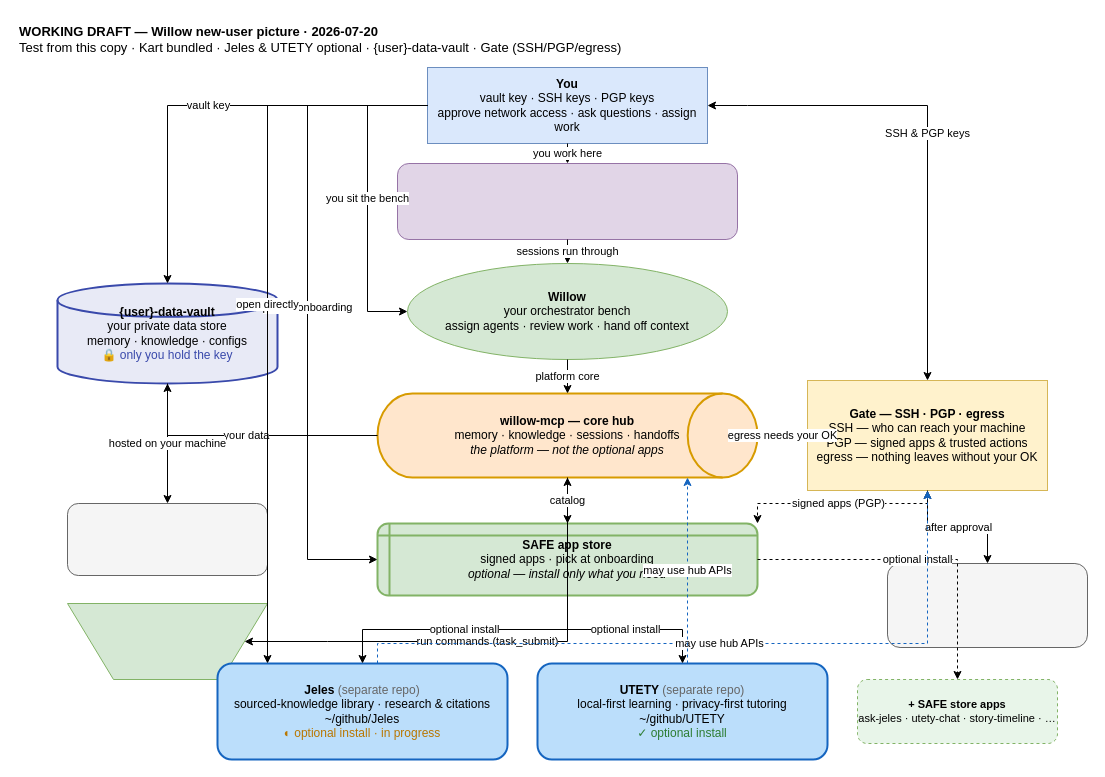
Image size: 1105x777. Some labels were removed from this diagram. The shapes that lost their labels are listed below. From the top down, each one's centre as x and y in pixels, then its label:
the point at 567,201: Your tools Cursor · Claude Code · Discord where you type — not who the agent is
the point at 167,539: Your computer local AI models your files and repos
the point at 987,605: Outside world websites · GitHub · APIs only when Gate allows
the point at 167,641: Kart run shell work in a sandbox ✓ ships with platform
